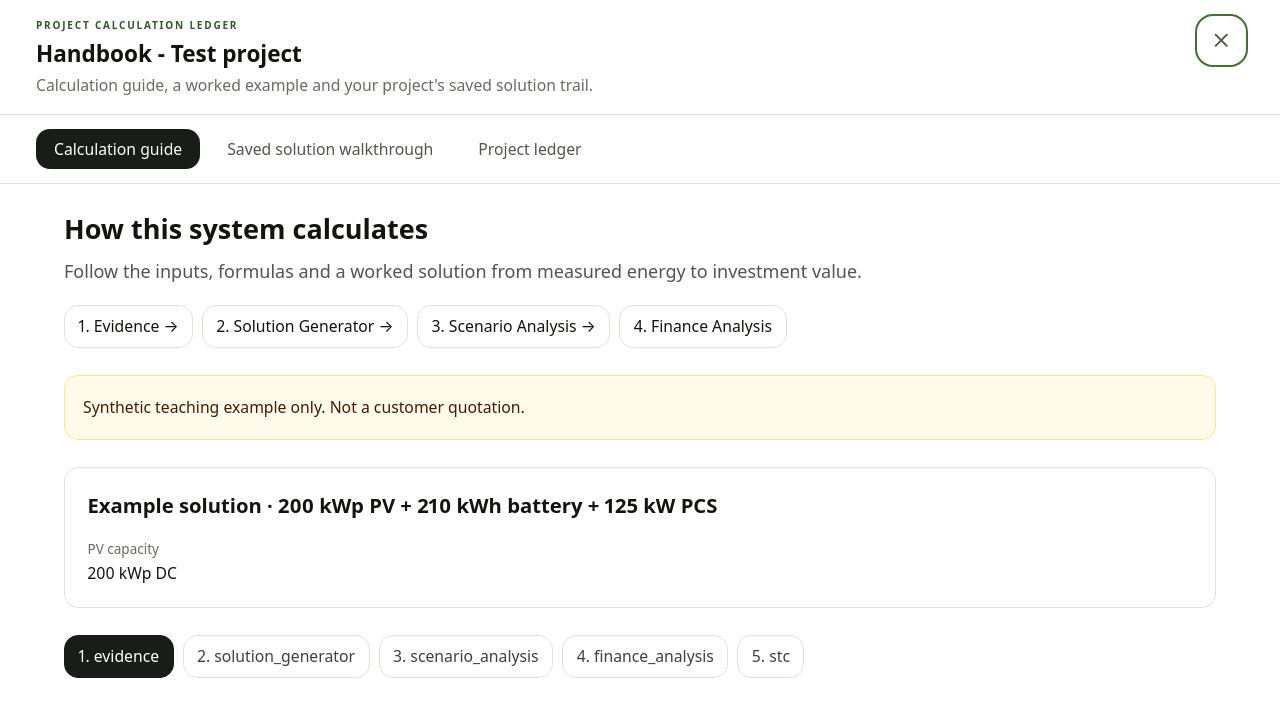
Test case: CiHandbookPanel › opens a populated teaching guide and switches chapters without loading project calculations
Expected: the text "Synthetic teaching example only. Not a customer quotation." is shown, [64,374,1216,440]
Click the button "5. stc".
click(771, 656)  # box [737,635,804,678]
(page scrolled)
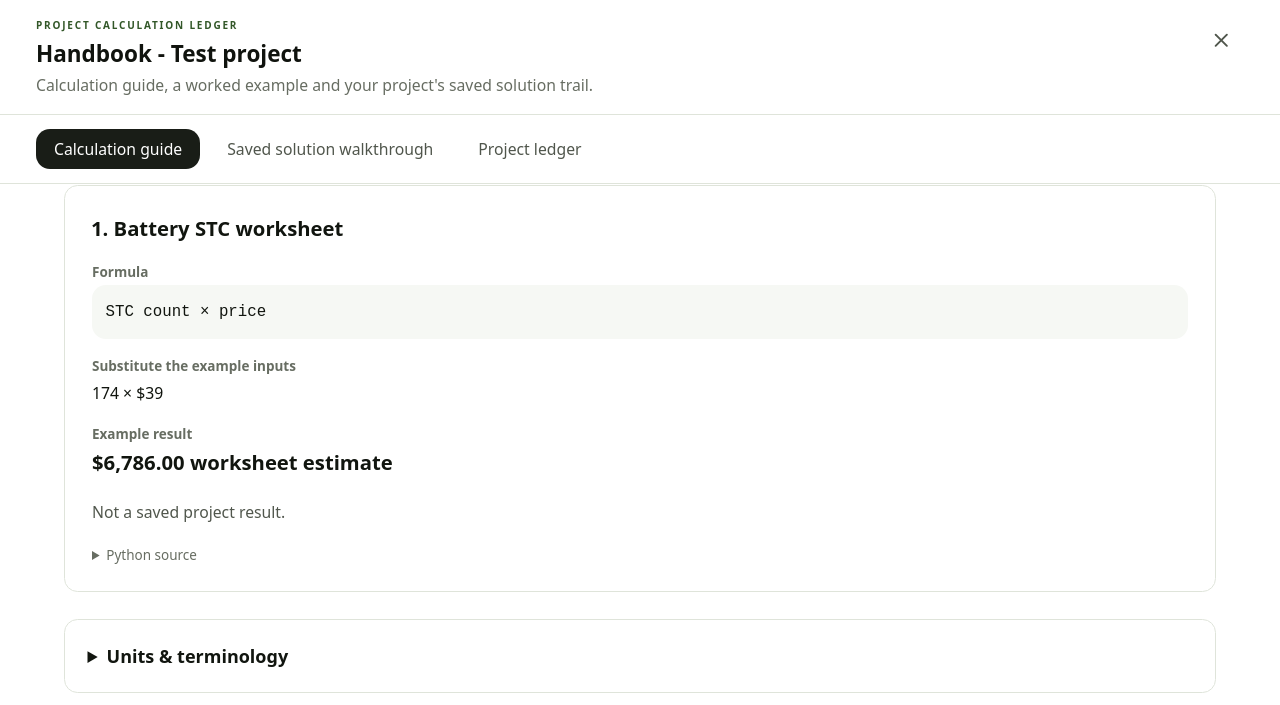
Expected: the text "174 × $39" is shown, [92,382,163,404]
Expected: the text "$6,786.00 worksheet estimate" is shown, [92,448,393,476]
